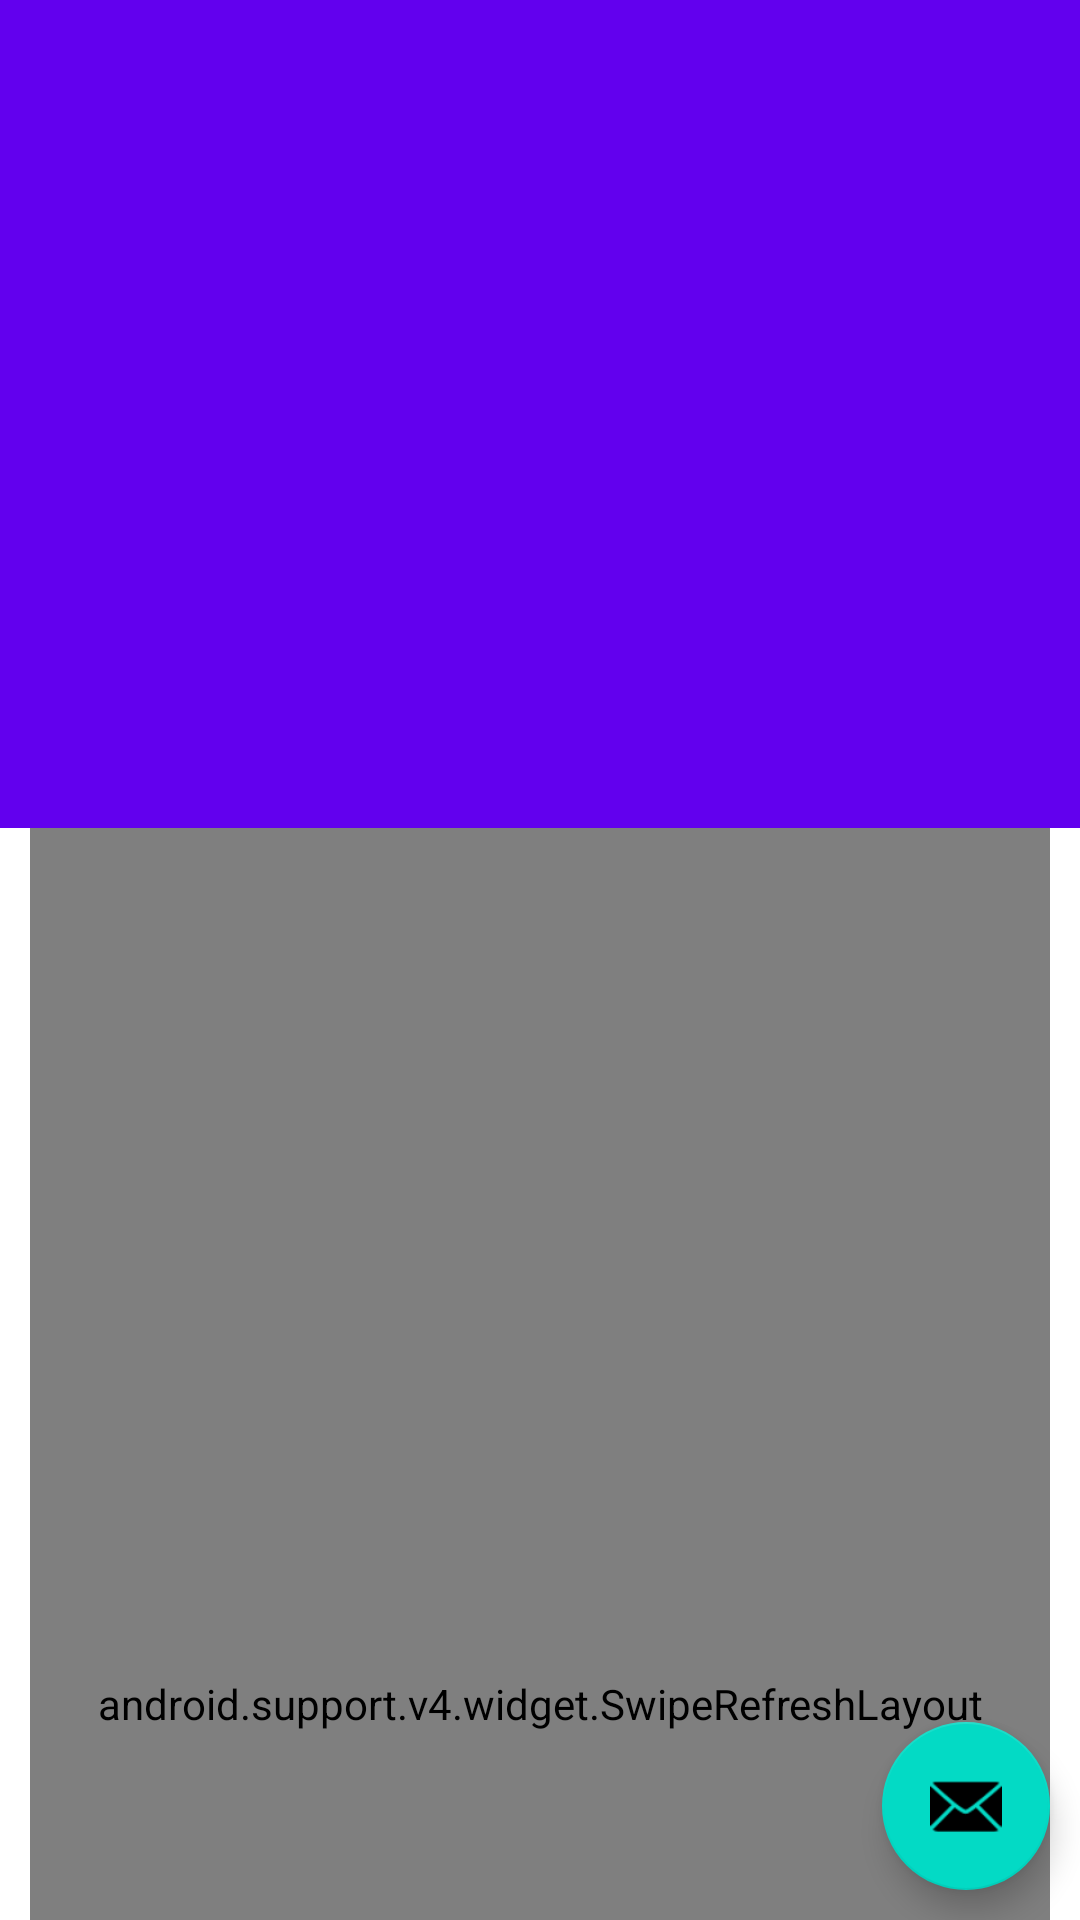

Where to tap for icons on this 1080×1920 app screen, as (x=x, y=y):
email: (x=966, y=1806)
